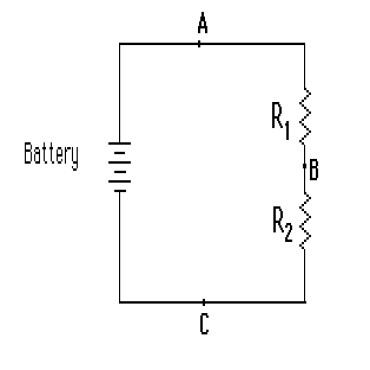Resistor: (270, 86, 312, 148), (271, 192, 312, 253)
Voltage Source: (20, 138, 136, 198)
